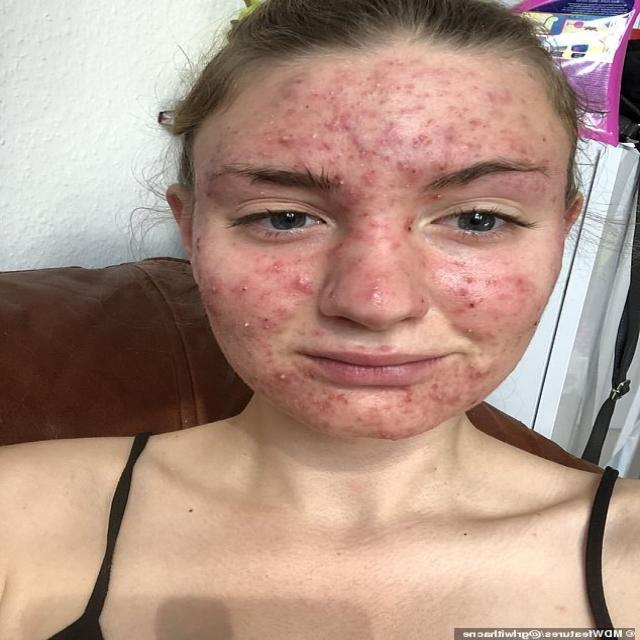acne: (276, 84, 469, 174), (446, 255, 535, 328), (219, 258, 309, 326), (291, 395, 430, 428)
